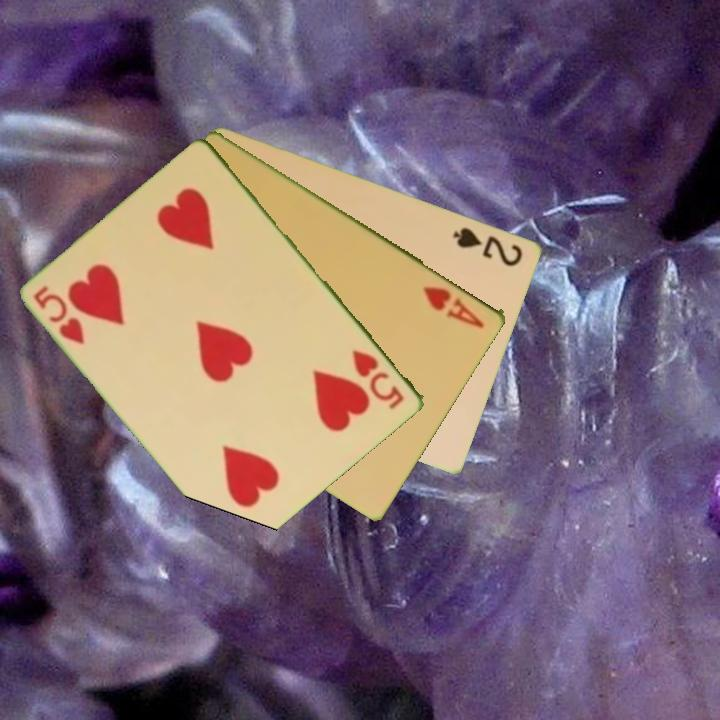2s: (449, 223, 527, 269)
5h: (349, 346, 408, 412), (31, 282, 89, 348)
Ah: (420, 282, 488, 331)
